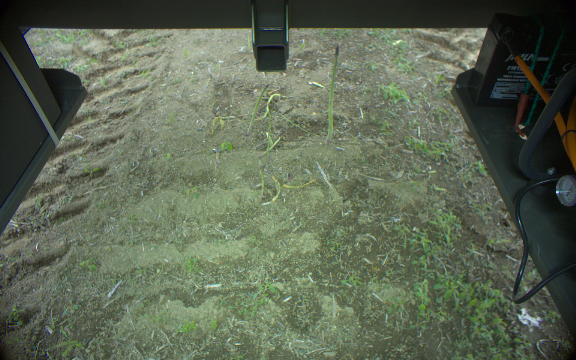aspa: (323, 44, 342, 140), (247, 82, 270, 140), (255, 162, 269, 202)
